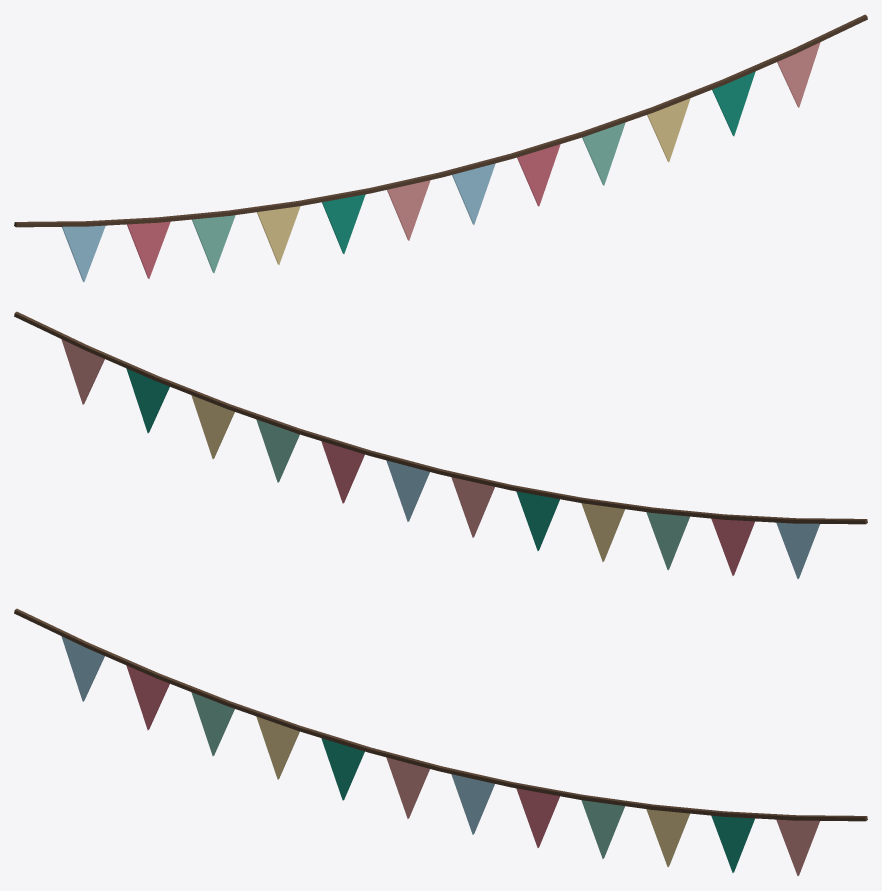
The model's file is CatCafe_Square_BuntingShort.glb.
The picture shows the model from 3 angles, top to bottom: view 1: azimuth 30°, elevation 25°; view 2: azimuth 150°, elevation 25°; view 3: azimuth 330°, elevation 25°; orthographic projection.
Parts seen in each view (by area): view 1: CatCafe_Square_BuntingShort, CatCafe_Square_BuntingShort_Flag12_Pennant, CatCafe_Square_BuntingShort_Flag06_Pennant, CatCafe_Square_BuntingShort_Flag09_Pennant, CatCafe_Square_BuntingShort_Flag07_Pennant, CatCafe_Square_BuntingShort_Flag08_Pennant, CatCafe_Square_BuntingShort_Flag11_Pennant, CatCafe_Square_BuntingShort_Flag05_Pennant, CatCafe_Square_BuntingShort_Flag10_Pennant, CatCafe_Square_BuntingShort_Flag03_Pennant, CatCafe_Square_BuntingShort_Flag04_Pennant, CatCafe_Square_BuntingShort_Flag02_Pennant (+1 smaller); view 2: CatCafe_Square_BuntingShort, CatCafe_Square_BuntingShort_Flag12_Pennant, CatCafe_Square_BuntingShort_Flag06_Pennant, CatCafe_Square_BuntingShort_Flag09_Pennant, CatCafe_Square_BuntingShort_Flag07_Pennant, CatCafe_Square_BuntingShort_Flag08_Pennant, CatCafe_Square_BuntingShort_Flag11_Pennant, CatCafe_Square_BuntingShort_Flag05_Pennant, CatCafe_Square_BuntingShort_Flag10_Pennant, CatCafe_Square_BuntingShort_Flag03_Pennant, CatCafe_Square_BuntingShort_Flag04_Pennant, CatCafe_Square_BuntingShort_Flag02_Pennant (+1 smaller); view 3: CatCafe_Square_BuntingShort, CatCafe_Square_BuntingShort_Flag01_Pennant, CatCafe_Square_BuntingShort_Flag04_Pennant, CatCafe_Square_BuntingShort_Flag07_Pennant, CatCafe_Square_BuntingShort_Flag02_Pennant, CatCafe_Square_BuntingShort_Flag05_Pennant, CatCafe_Square_BuntingShort_Flag06_Pennant, CatCafe_Square_BuntingShort_Flag08_Pennant, CatCafe_Square_BuntingShort_Flag03_Pennant, CatCafe_Square_BuntingShort_Flag09_Pennant, CatCafe_Square_BuntingShort_Flag10_Pennant, CatCafe_Square_BuntingShort_Flag11_Pennant (+1 smaller).
Boxes of the visible parts, x1,y1,x2,y2 form: CatCafe_Square_BuntingShort: (14, 14, 867, 227); CatCafe_Square_BuntingShort_Flag12_Pennant: (62, 225, 105, 281); CatCafe_Square_BuntingShort_Flag06_Pennant: (452, 163, 495, 224); CatCafe_Square_BuntingShort_Flag09_Pennant: (257, 206, 300, 264); CatCafe_Square_BuntingShort_Flag07_Pennant: (387, 180, 430, 240); CatCafe_Square_BuntingShort_Flag08_Pennant: (322, 194, 365, 253); CatCafe_Square_BuntingShort_Flag11_Pennant: (127, 221, 170, 278); CatCafe_Square_BuntingShort_Flag05_Pennant: (517, 144, 560, 206); CatCafe_Square_BuntingShort_Flag10_Pennant: (192, 215, 235, 272); CatCafe_Square_BuntingShort_Flag03_Pennant: (647, 98, 690, 161); CatCafe_Square_BuntingShort_Flag04_Pennant: (582, 122, 625, 185); CatCafe_Square_BuntingShort_Flag02_Pennant: (712, 71, 755, 136); CatCafe_Square_BuntingShort: (14, 311, 867, 524); CatCafe_Square_BuntingShort_Flag12_Pennant: (776, 522, 819, 578); CatCafe_Square_BuntingShort_Flag06_Pennant: (386, 460, 429, 521); CatCafe_Square_BuntingShort_Flag09_Pennant: (581, 503, 624, 561); CatCafe_Square_BuntingShort_Flag07_Pennant: (451, 477, 494, 537); CatCafe_Square_BuntingShort_Flag08_Pennant: (516, 491, 559, 550); CatCafe_Square_BuntingShort_Flag11_Pennant: (711, 518, 754, 575); CatCafe_Square_BuntingShort_Flag05_Pennant: (321, 441, 364, 503); CatCafe_Square_BuntingShort_Flag10_Pennant: (646, 512, 689, 569); CatCafe_Square_BuntingShort_Flag03_Pennant: (191, 395, 234, 458); CatCafe_Square_BuntingShort_Flag04_Pennant: (256, 419, 299, 482); CatCafe_Square_BuntingShort_Flag02_Pennant: (126, 368, 169, 433); CatCafe_Square_BuntingShort: (14, 608, 867, 821); CatCafe_Square_BuntingShort_Flag01_Pennant: (776, 819, 819, 875); CatCafe_Square_BuntingShort_Flag04_Pennant: (581, 800, 624, 858); CatCafe_Square_BuntingShort_Flag07_Pennant: (386, 757, 429, 818); CatCafe_Square_BuntingShort_Flag02_Pennant: (711, 815, 754, 872); CatCafe_Square_BuntingShort_Flag05_Pennant: (516, 788, 559, 847); CatCafe_Square_BuntingShort_Flag06_Pennant: (451, 774, 494, 834); CatCafe_Square_BuntingShort_Flag08_Pennant: (321, 738, 364, 800); CatCafe_Square_BuntingShort_Flag03_Pennant: (646, 809, 689, 866); CatCafe_Square_BuntingShort_Flag09_Pennant: (256, 716, 299, 779); CatCafe_Square_BuntingShort_Flag10_Pennant: (191, 692, 234, 755); CatCafe_Square_BuntingShort_Flag11_Pennant: (126, 665, 169, 730).
Size of the model in its own units: 16.56 by 2.11 by 0.07.
1 material, 1 textured.
